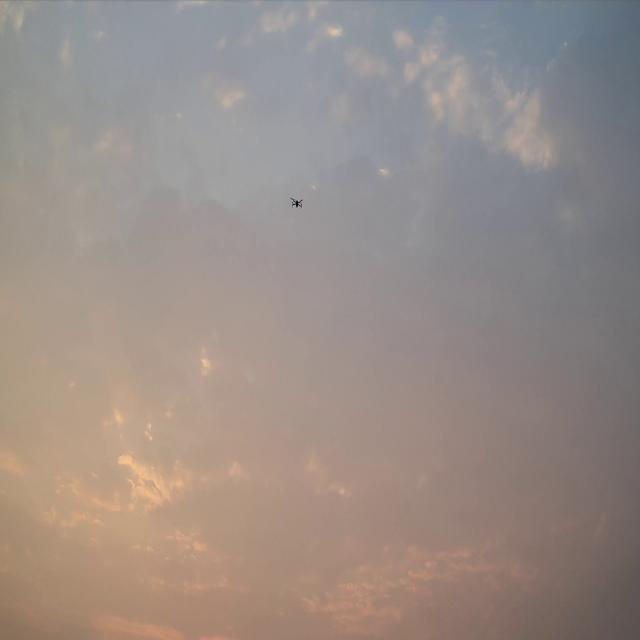drone: (290, 198, 303, 210)
